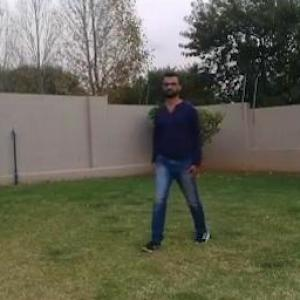follow: (152, 76, 191, 230)
